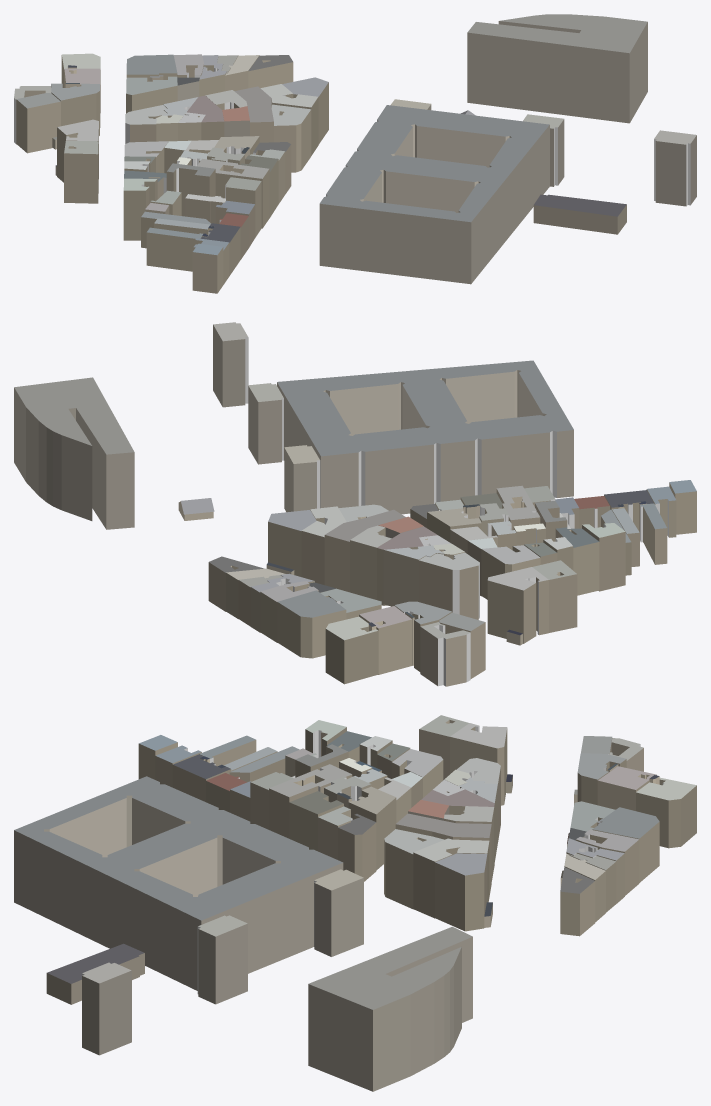
3 views of the same model, one above another, from view 1: azimuth 30°, elevation 25°; view 2: azimuth 150°, elevation 25°; view 3: azimuth 270°, elevation 25° (orthographic). The views are drawn at different scales.
Parts seen in each view (by area): view 1: tuile; view 2: tuile; view 3: tuile.
Boxes of the visible parts, bbox=[...] form: tuile: bbox=[14, 14, 696, 293]; tuile: bbox=[14, 322, 696, 686]; tuile: bbox=[14, 715, 696, 1091].
Size of the model in its own units: 292 by 36.42 by 267.
